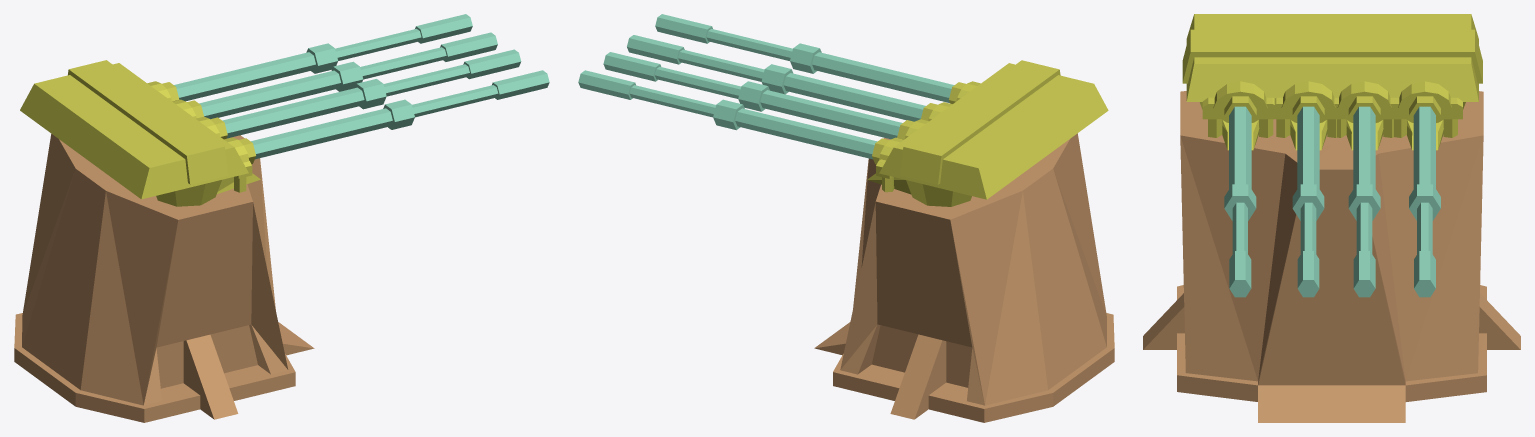
File: Cannon-RRR-4.fbx
3 renders of one model, left to right at view 1: azimuth 30°, elevation 25°; view 2: azimuth 150°, elevation 25°; view 3: azimuth 270°, elevation 25°, orthographic. The views are drawn at different scales.
Parts seen in each view (by area): view 1: russian_3:base, russian_3:attack; view 2: russian_3:base, russian_3:attack; view 3: russian_3:base, russian_3:attack.
Boxes of the visible parts, <box> form: russian_3:base: <box>14,134,314,422</box>; russian_3:attack: <box>20,14,549,206</box>; russian_3:base: <box>814,133,1114,422</box>; russian_3:attack: <box>578,14,1108,206</box>; russian_3:base: <box>1143,91,1520,422</box>; russian_3:attack: <box>1182,14,1482,297</box>.
Size of the model in its own units: 417 by 217 by 246.
